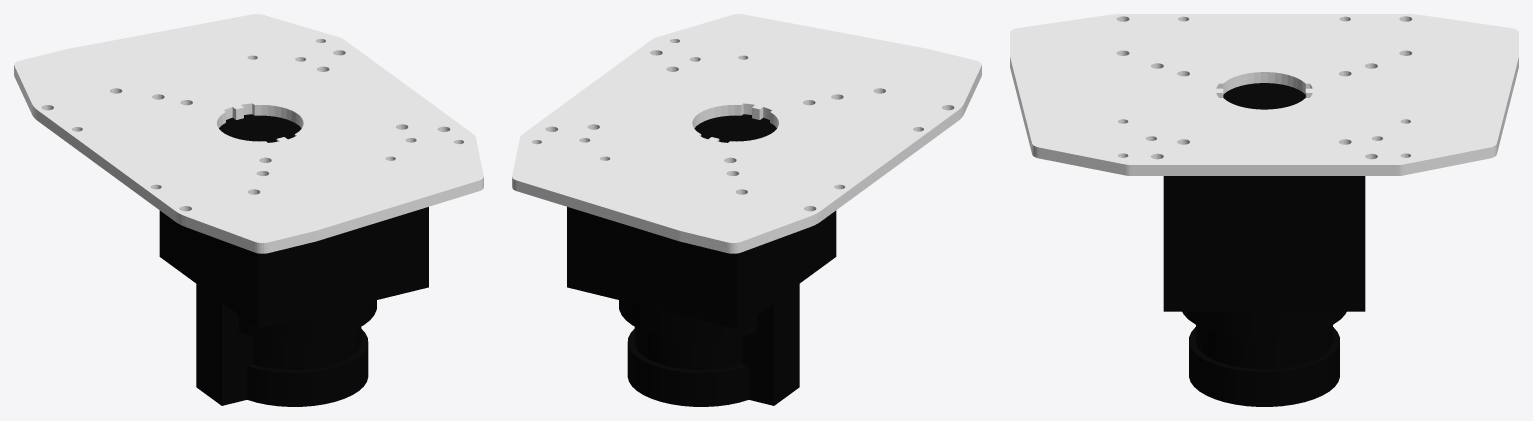
The model's file is lrf.dae.
3 views of the same model, side by side, from view 1: azimuth 30°, elevation 25°; view 2: azimuth 150°, elevation 25°; view 3: azimuth 270°, elevation 25° (orthographic). The views are drawn at different scales.
Visible parts, largest first — view 1: LiDER_000; view 2: LiDER_000; view 3: LiDER_000.
Boxes of the visible parts, box(x1,y1,x2,y2) form: LiDER_000: box(14, 14, 483, 406); LiDER_000: box(512, 14, 981, 406); LiDER_000: box(1010, 14, 1518, 406).
Size of the model in its own units: 0.0885 by 0.126 by 0.073.
1 material, 1 textured.
